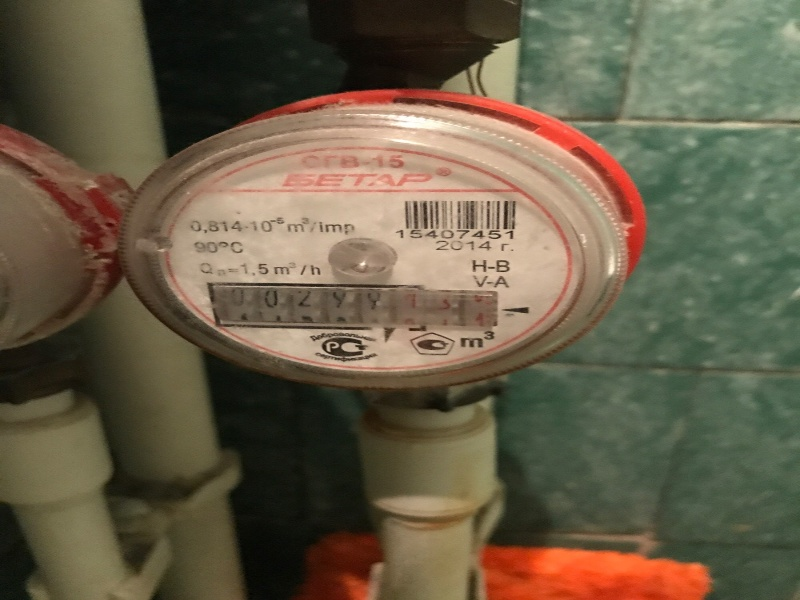meter: (200, 280, 505, 328)
